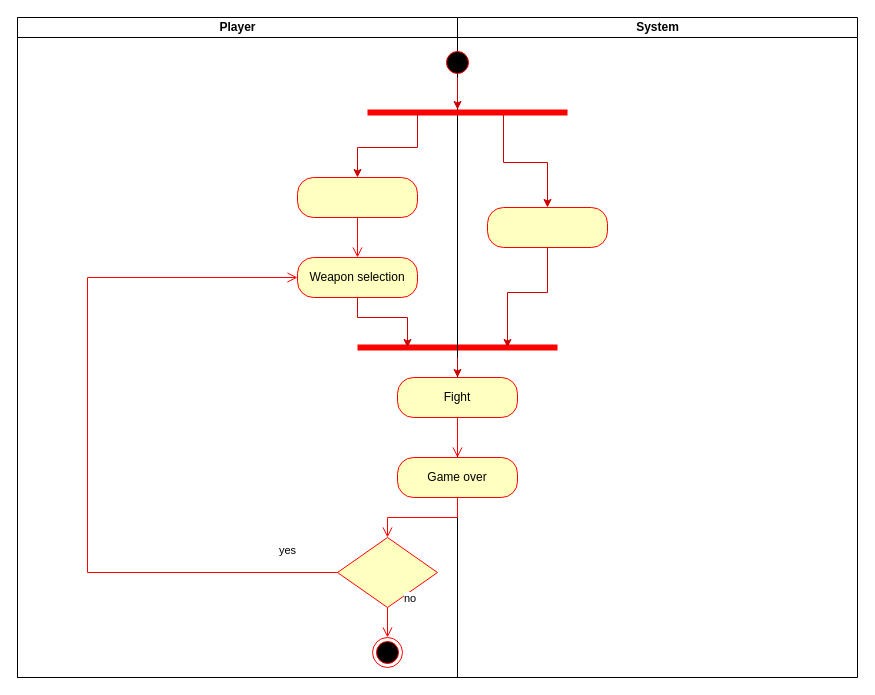
Some shapes in this 875 by 695 pixel diagram are drawn without their labels. The centre of each missing label's shape, as x and y in pixels:
character selection: the point at 357,197
Generate random enemy: the point at 547,227
keep fighting: the point at 387,572
